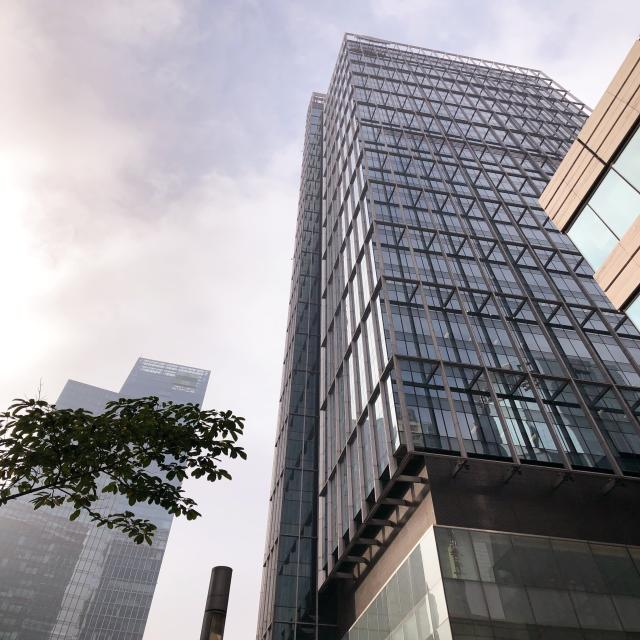Glass: (292, 31, 639, 540)
